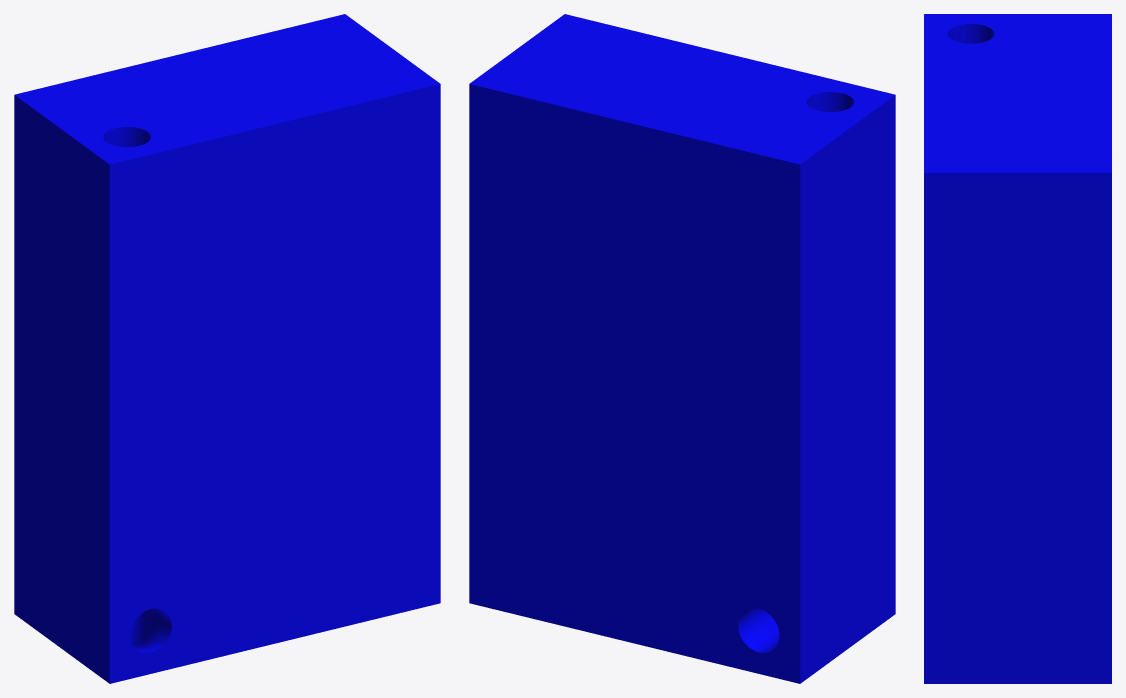
File: asset.glb
The picture shows the model from 3 angles, left to right: view 1: azimuth 30°, elevation 25°; view 2: azimuth 150°, elevation 25°; view 3: azimuth 270°, elevation 25°; orthographic projection.
Visible parts, largest first — view 1: Layer:BOX2x4x6; view 2: Layer:BOX2x4x6; view 3: Layer:BOX2x4x6.
Boxes of the visible parts, x1,y1,x2,y2 form: Layer:BOX2x4x6: (14, 14, 440, 683); Layer:BOX2x4x6: (469, 14, 895, 683); Layer:BOX2x4x6: (924, 14, 1111, 683).
Bounding box in the file's own units: 102 × 152 × 50.8.
